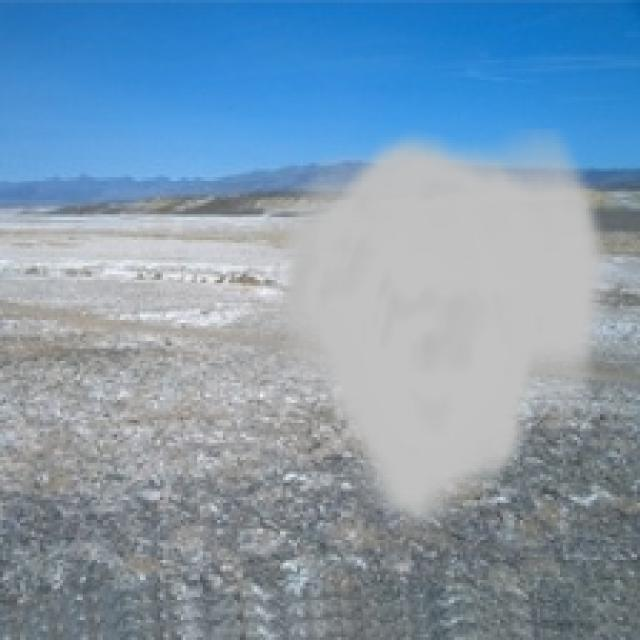Smoke: (263, 128, 612, 534)
